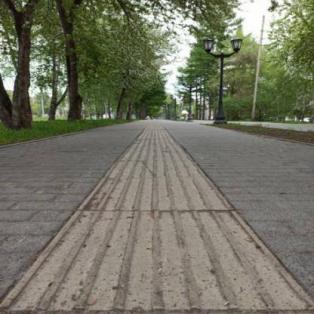Podoctatil: (1, 126, 312, 306)
